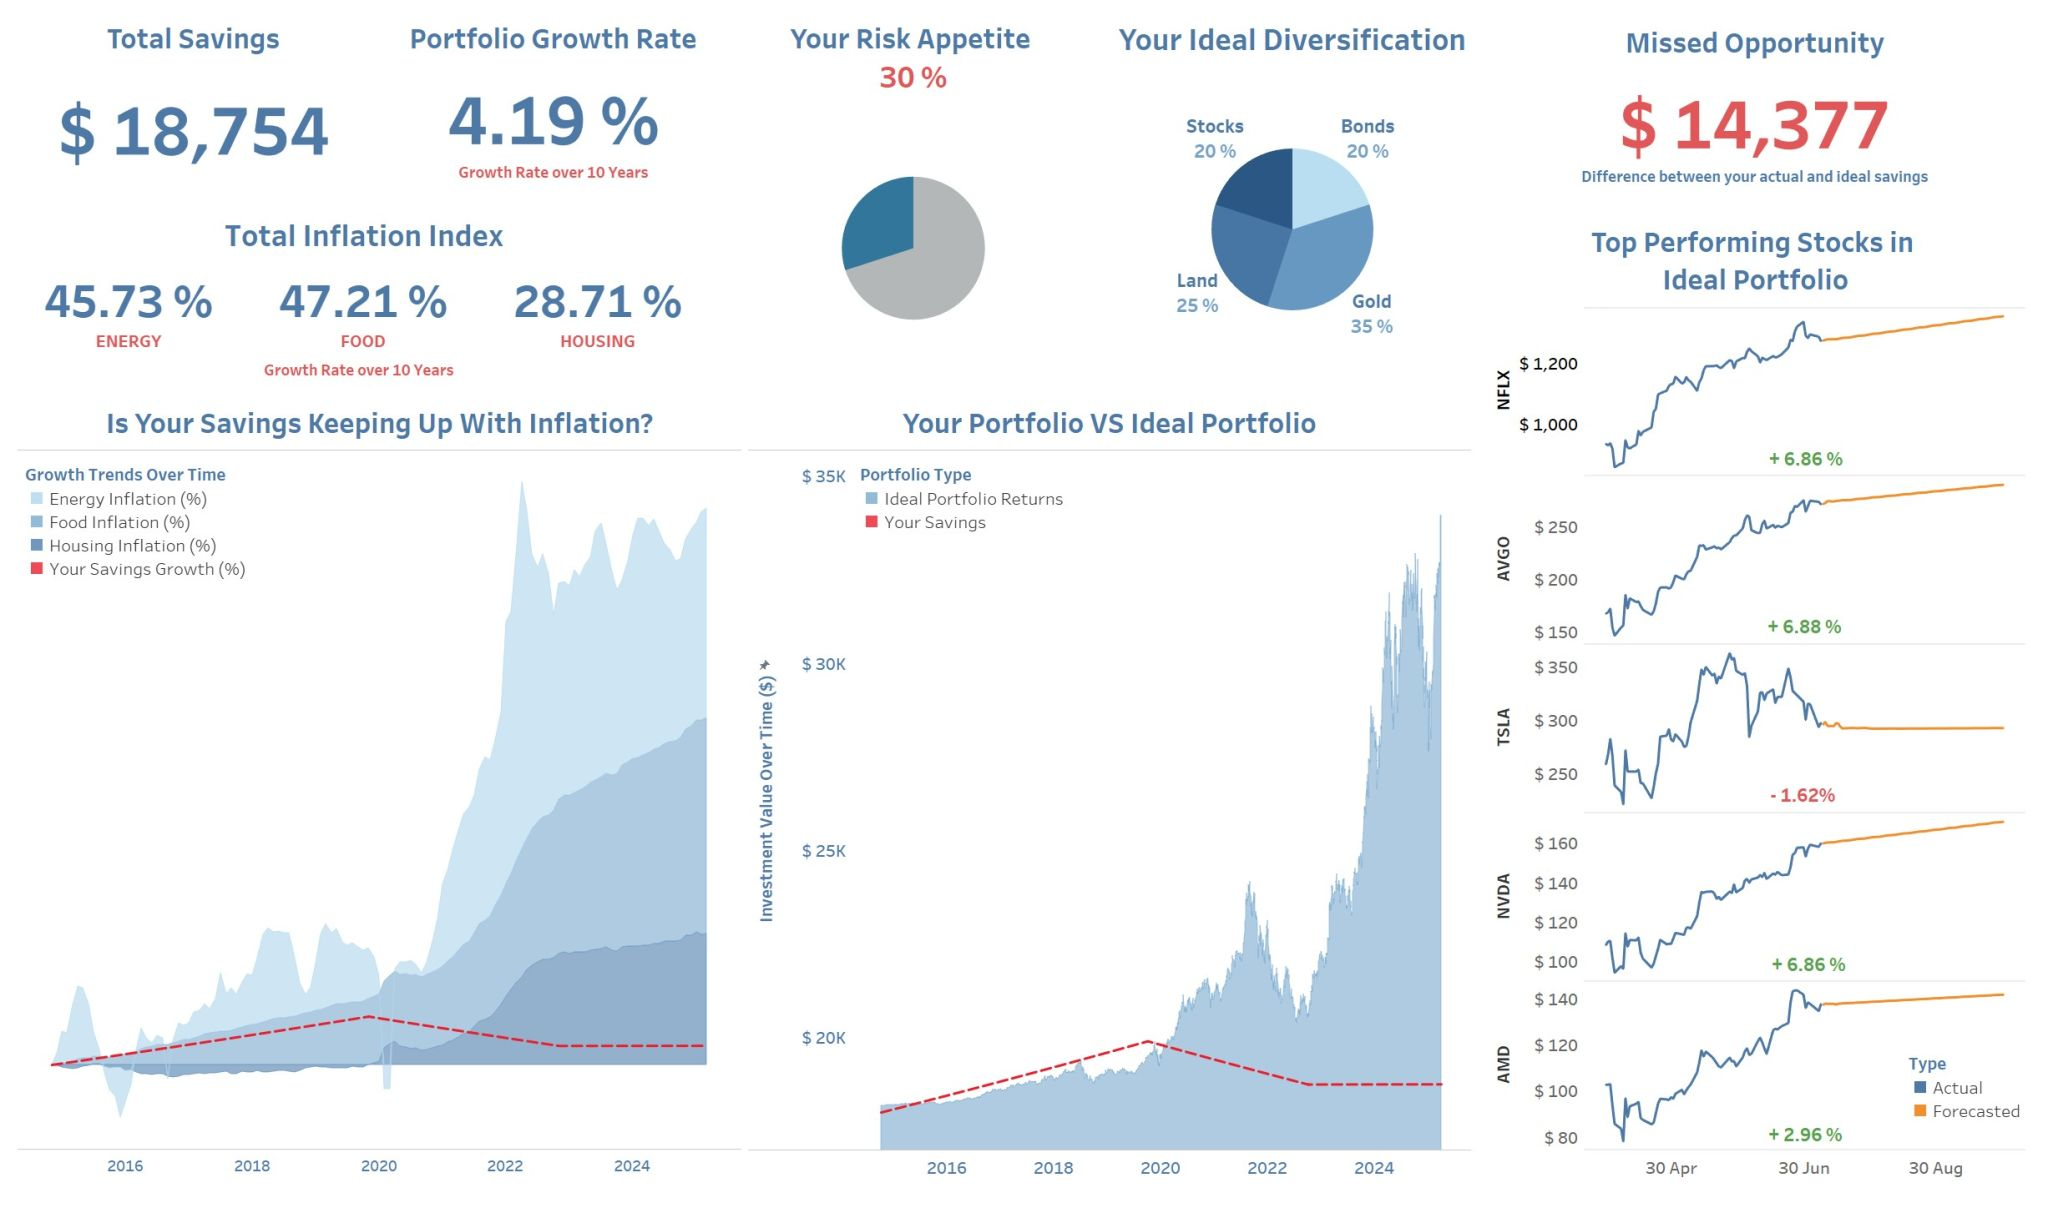

This screenshot's page, from the dashboard's own definition file:
{"tool":"tableau","page":{"name":"Dashboard Draft","canvas":[2700,1500],"ordinal":0},"visuals":[{"type":"worksheet","title":"Current Savings","mark":"Automatic","box":[18,15,431,217]},{"type":"worksheet","title":"Percentage Growth","mark":"Automatic","box":[449,15,431,217]},{"type":"worksheet","title":"Risk Appetite","mark":"Pie","box":[869,15,454,459]},{"type":"worksheet","title":"Ideal Diversification","mark":"Pie","box":[1323,15,454,459]},{"type":"worksheet","title":"Unrealised Potential","mark":"Automatic","box":[1760,20,688,218]},{"type":"text","box":[123,248,630,67]},{"type":"worksheet","title":"Stock Trends","mark":"Automatic","rows":["NFLX_CLOSE","AVGO_CLOSE","TSLA_CLOSE","NVDA_CLOSE","AMD_CLOSE"],"cols":["Date (NASDAQ_100_top_performers.csv)"],"box":[1776,259,656,1169]},{"type":"worksheet","title":"Energy Growth","mark":"Automatic","box":[15,280,281,186]},{"type":"worksheet","title":"Food Growth","mark":"Automatic","box":[296,280,281,186]},{"type":"worksheet","title":"Housing Growth","mark":"Automatic","box":[577,280,281,186]},{"type":"text","box":[37,430,790,28]},{"type":"worksheet","title":"Inflation","mark":"Line","rows":["Percentage_Growth"],"cols":["Date (US_inflation_index.csv)"],"box":[19,476,875,950]},{"type":"worksheet","title":"Your Portfoilo VS Optimized Portfoilo","mark":"Automatic","rows":["Calculation_1958784398888087552","Savings"],"cols":["Date (Top_performers_Portfolio_Growth.csv)"],"box":[894,476,874,950]},{"type":"text","box":[1900,540,530,20]},{"type":"legend","title":"Inflation","param":"[federated.02bxoga0zmbbb219s7n8g0bmmipr].[:Measure Names]","box":[32,555,326,153]},{"type":"legend","title":"Your Portfoilo VS Optimized Portfoilo","param":"[federated.02bxoga0zmbbb219s7n8g0bmmipr].[:Measure Names]","box":[1032,555,249,85]},{"type":"text","box":[1900,739,527,25]},{"type":"text","box":[1898,941,527,25]},{"type":"text","box":[1905,1144,527,25]},{"type":"legend","title":"Stock Trends","param":"[federated.02bxoga0zmbbb219s7n8g0bmmipr].[none:Type:nk]","box":[2288,1261,140,85]},{"type":"text","box":[1901,1348,527,25]}]}

Visuals, with their boxes on the page's 2700x1500 design canvas (x1, y1, x2, y2). These are canvas units, not pixel positions in the 2048x1208 screenshot, which may show the page scaled, cropped or inside an application window:
"Current Savings" worksheet: <box>18,15,449,232</box>
"Percentage Growth" worksheet: <box>449,15,880,232</box>
"Risk Appetite" worksheet (Pie marks): <box>869,15,1323,474</box>
"Ideal Diversification" worksheet (Pie marks): <box>1323,15,1777,474</box>
"Unrealised Potential" worksheet: <box>1760,20,2448,238</box>
text: <box>123,248,753,315</box>
"Stock Trends" worksheet: <box>1776,259,2432,1428</box>
"Energy Growth" worksheet: <box>15,280,296,466</box>
"Food Growth" worksheet: <box>296,280,577,466</box>
"Housing Growth" worksheet: <box>577,280,858,466</box>
text: <box>37,430,827,458</box>
"Inflation" worksheet (Line marks): <box>19,476,894,1426</box>
"Your Portfoilo VS Optimized Portfoilo" worksheet: <box>894,476,1768,1426</box>
text: <box>1900,540,2430,560</box>
"Inflation" legend: <box>32,555,358,708</box>
"Your Portfoilo VS Optimized Portfoilo" legend: <box>1032,555,1281,640</box>
text: <box>1900,739,2427,764</box>
text: <box>1898,941,2425,966</box>
text: <box>1905,1144,2432,1169</box>
"Stock Trends" legend: <box>2288,1261,2428,1346</box>
text: <box>1901,1348,2428,1373</box>
